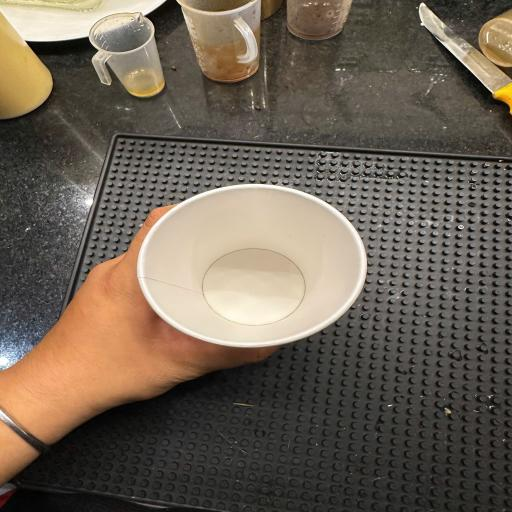ly_giay: (130, 170, 424, 361)
